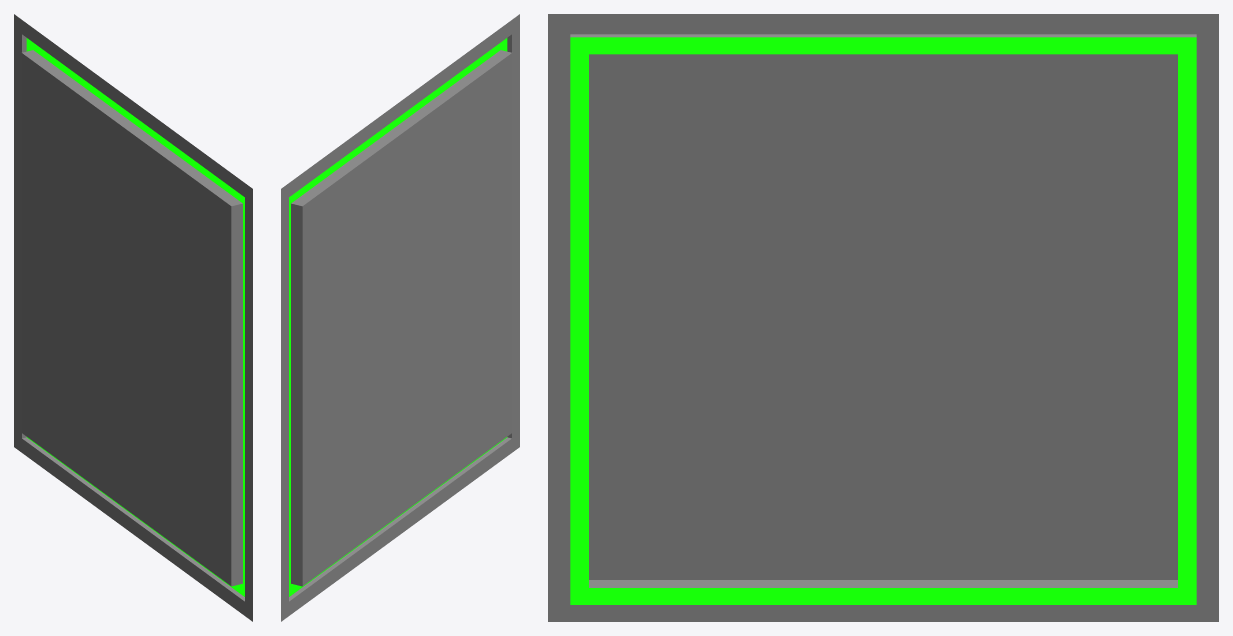
File: Wall_03.FBX
3 views of the same model, side by side, from view 1: azimuth 30°, elevation 25°; view 2: azimuth 150°, elevation 25°; view 3: azimuth 270°, elevation 25° (orthographic). The views are drawn at different scales.
Visible parts, largest first — view 1: Wall_03_LOD0; view 2: Wall_03_LOD0; view 3: Wall_03_LOD0.
Part boxes in pixels (left/top/right/bottom): Wall_03_LOD0: left=14, top=14, right=252, bottom=621; Wall_03_LOD0: left=281, top=14, right=519, bottom=621; Wall_03_LOD0: left=548, top=14, right=1218, bottom=621.
Size of what is drawn, in the model's own units: 5 by 180 by 180.
